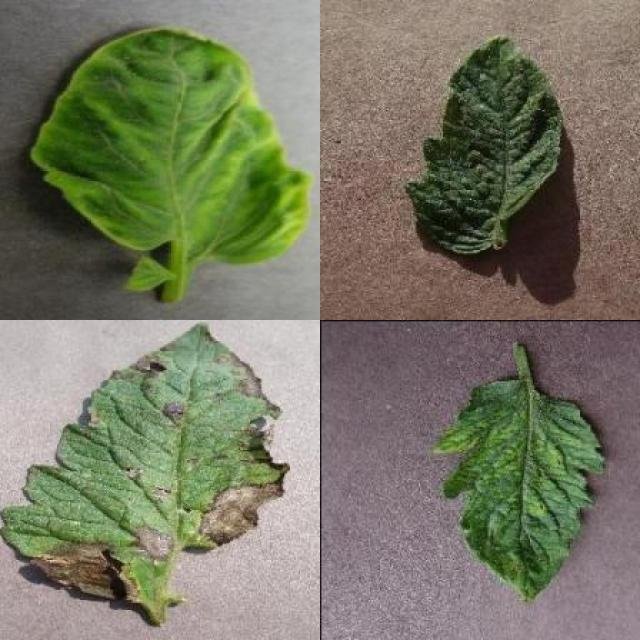Late Blight: (0, 320, 290, 604)
Mosaic Virus: (434, 376, 604, 601)
Spider Mites: (407, 32, 560, 252)
Yellow Leaf Curl Virus: (31, 24, 312, 267)
